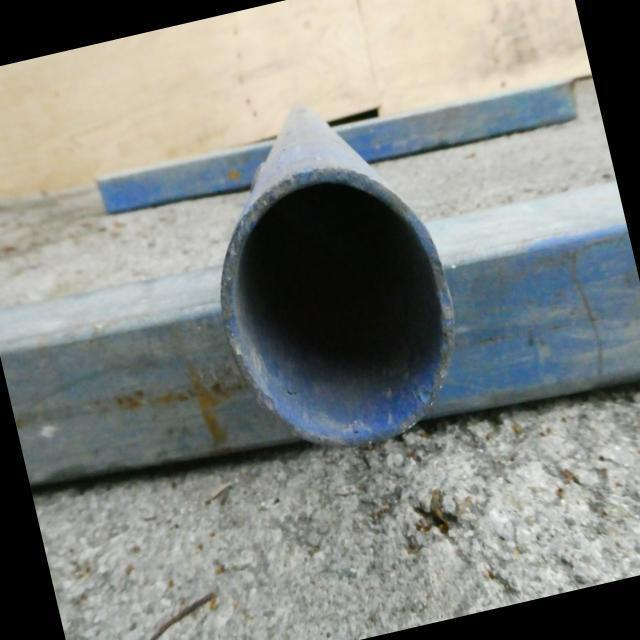pipe: (219, 170, 455, 448)
